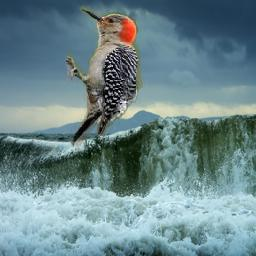Woodpecker: (66, 3, 146, 153)
